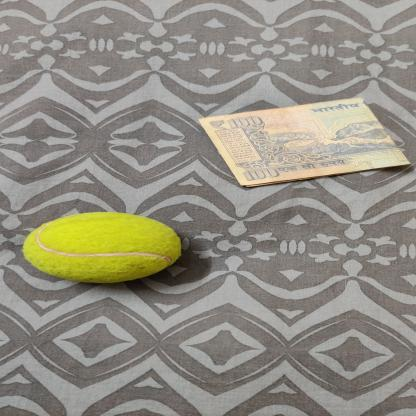Old100Back: (198, 98, 412, 188)
